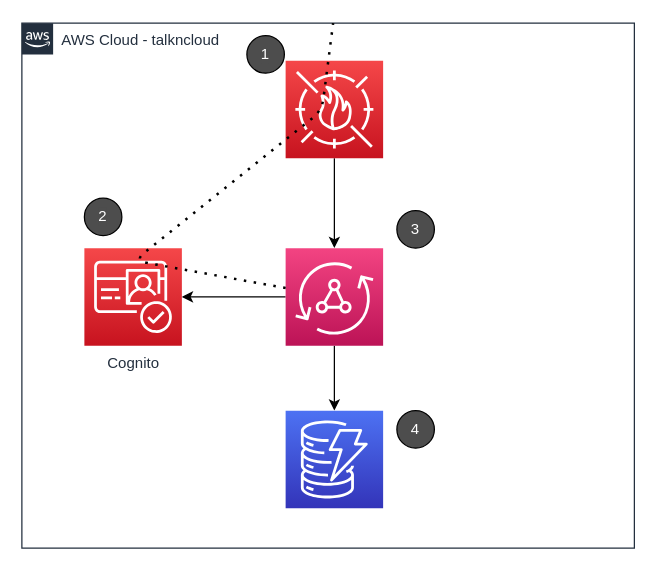
This 656x570 diagram has some shape labels left out. The shapes that lost their labels are listed below. From the top down, each one's centre as x and y in pixels, then its label:
At (x=333, y=108): "Web Application Firewall (WAF)".
At (x=333, y=296): "AppSync API".
At (x=333, y=458): "DynamoDB".
